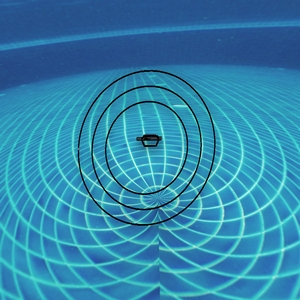submarine: (138, 131, 160, 149)
